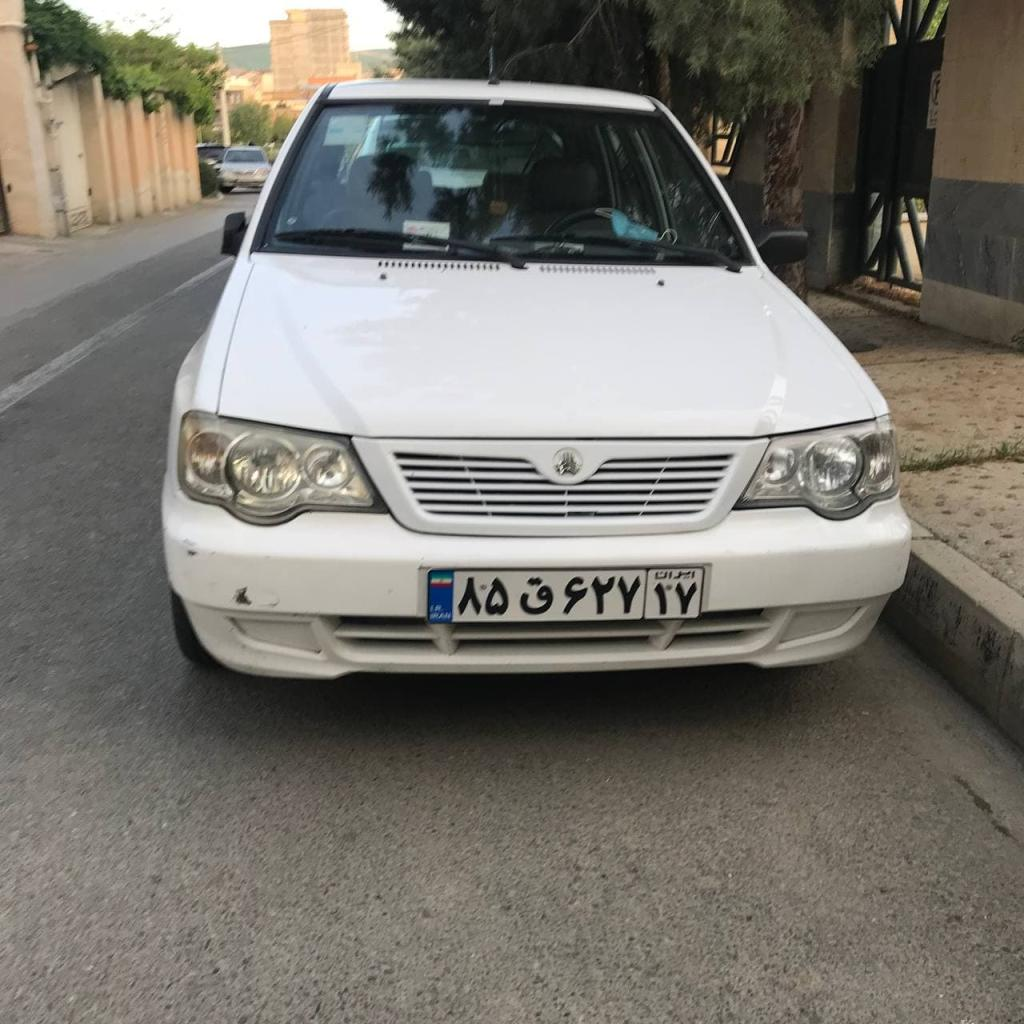Plates: (429, 567, 703, 622)
